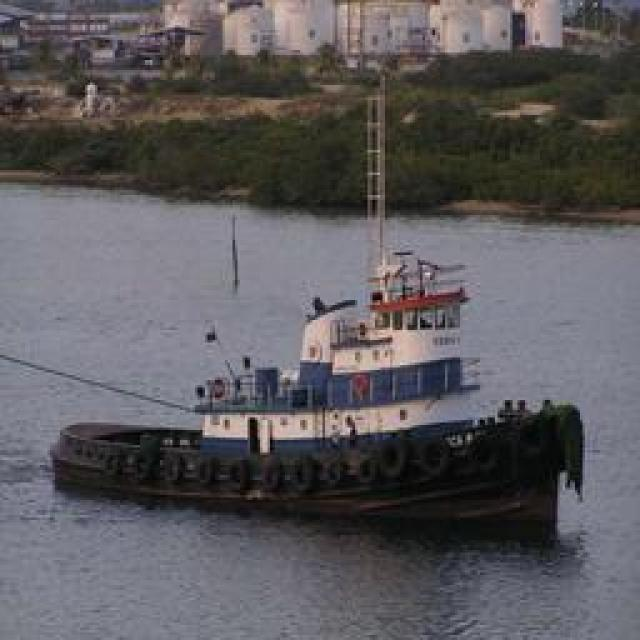CIV_Ship: (51, 230, 589, 520)
